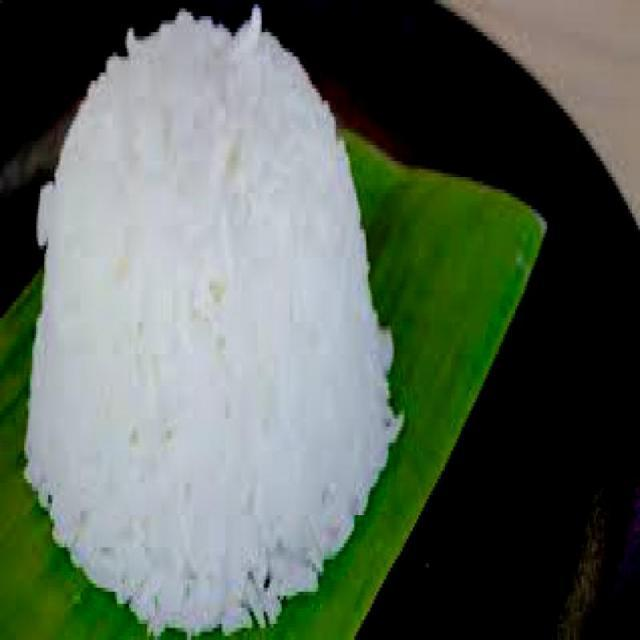rice: (24, 14, 393, 635)
